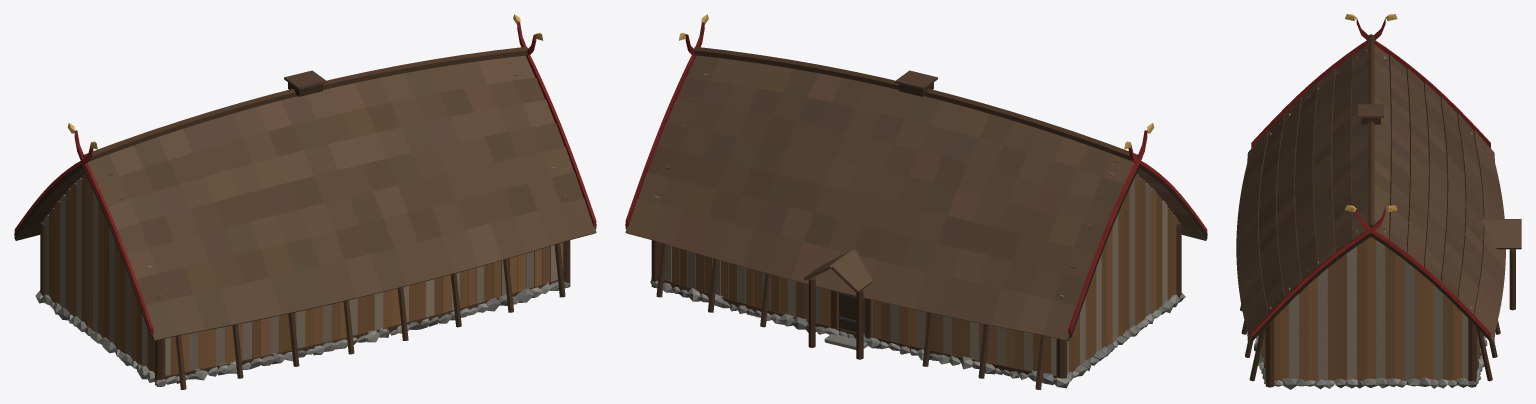
The model's file is GreatHall.glb.
3 views of the same model, side by side, from view 1: azimuth 30°, elevation 25°; view 2: azimuth 150°, elevation 25°; view 3: azimuth 270°, elevation 25° (orthographic). The views are drawn at different scales.
Parts seen in each view (by area): view 1: Mat_Wood_73563d, Mat_Wood_493525, Mat_Wood_402f22, Mat_Stone_6a6863, Mat_Thatch_847562, Mat_Stone_7e7c75, Mat_Cloth_6f1d1a, Mat_Thatch_af915c, Mat_Cloth_852320; view 2: Mat_Wood_73563d, Mat_Wood_493525, Mat_Wood_402f22, Mat_Stone_6a6863, Mat_Stone_7e7c75, Mat_Thatch_847562, Mat_Cloth_6f1d1a, Mat_Cloth_852320, Mat_Thatch_af915c; view 3: Mat_Wood_73563d, Mat_Wood_493525, Mat_Wood_402f22, Mat_Thatch_847562, Mat_Thatch_af915c, Mat_Cloth_852320, Mat_Cloth_6f1d1a, Mat_Stone_7e7c75, Mat_Stone_6a6863, Mat_Cloth_ad877b.
Boxes of the visible parts, left/top/right/bottom form: Mat_Wood_73563d: left=43, top=55, right=596, bottom=375; Mat_Wood_493525: left=14, top=46, right=583, bottom=389; Mat_Wood_402f22: left=14, top=82, right=596, bottom=379; Mat_Stone_6a6863: left=40, top=281, right=570, bottom=386; Mat_Thatch_847562: left=59, top=125, right=556, bottom=348; Mat_Stone_7e7c75: left=35, top=282, right=550, bottom=385; Mat_Cloth_6f1d1a: left=74, top=22, right=596, bottom=335; Mat_Thatch_af915c: left=67, top=14, right=557, bottom=367; Mat_Cloth_852320: left=14, top=34, right=596, bottom=313; Mat_Wood_73563d: left=625, top=58, right=1178, bottom=375; Mat_Wood_493525: left=626, top=46, right=1205, bottom=389; Mat_Wood_402f22: left=625, top=82, right=1207, bottom=378; Mat_Stone_6a6863: left=650, top=278, right=1185, bottom=385; Mat_Stone_7e7c75: left=653, top=280, right=1185, bottom=388; Mat_Thatch_847562: left=654, top=173, right=1118, bottom=364; Mat_Cloth_6f1d1a: left=625, top=34, right=1147, bottom=335; Mat_Cloth_852320: left=625, top=22, right=1200, bottom=334; Mat_Thatch_af915c: left=664, top=14, right=1167, bottom=305; Mat_Wood_73563d: left=1236, top=45, right=1521, bottom=380; Mat_Wood_493525: left=1240, top=34, right=1515, bottom=387; Mat_Wood_402f22: left=1241, top=55, right=1500, bottom=381; Mat_Thatch_847562: left=1289, top=56, right=1472, bottom=380; Mat_Thatch_af915c: left=1289, top=14, right=1397, bottom=379; Mat_Cloth_852320: left=1251, top=40, right=1490, bottom=338; Mat_Cloth_6f1d1a: left=1251, top=18, right=1490, bottom=333; Mat_Stone_7e7c75: left=1255, top=335, right=1487, bottom=389; Mat_Stone_6a6863: left=1254, top=304, right=1501, bottom=389; Mat_Cloth_ad877b: left=1251, top=209, right=1456, bottom=338.
Bounding box in the file's own units: 41.26 × 19.04 × 25.79.
Materials: 1 (1 with a texture image).
